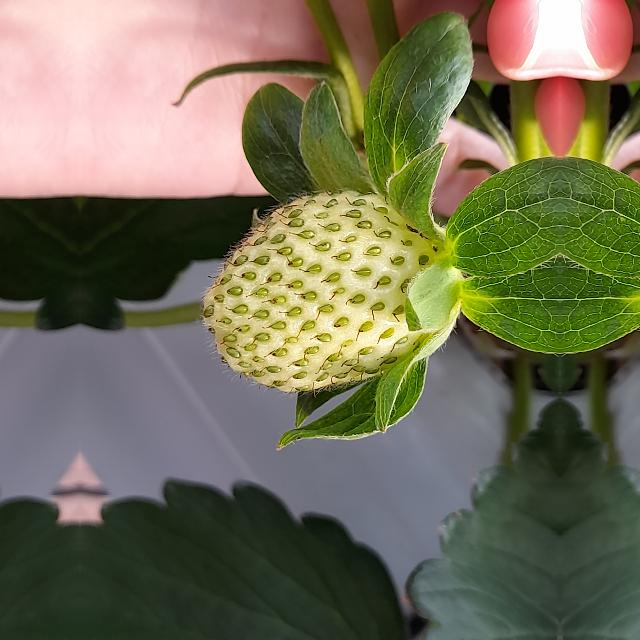Health_25: (195, 186, 439, 396)
